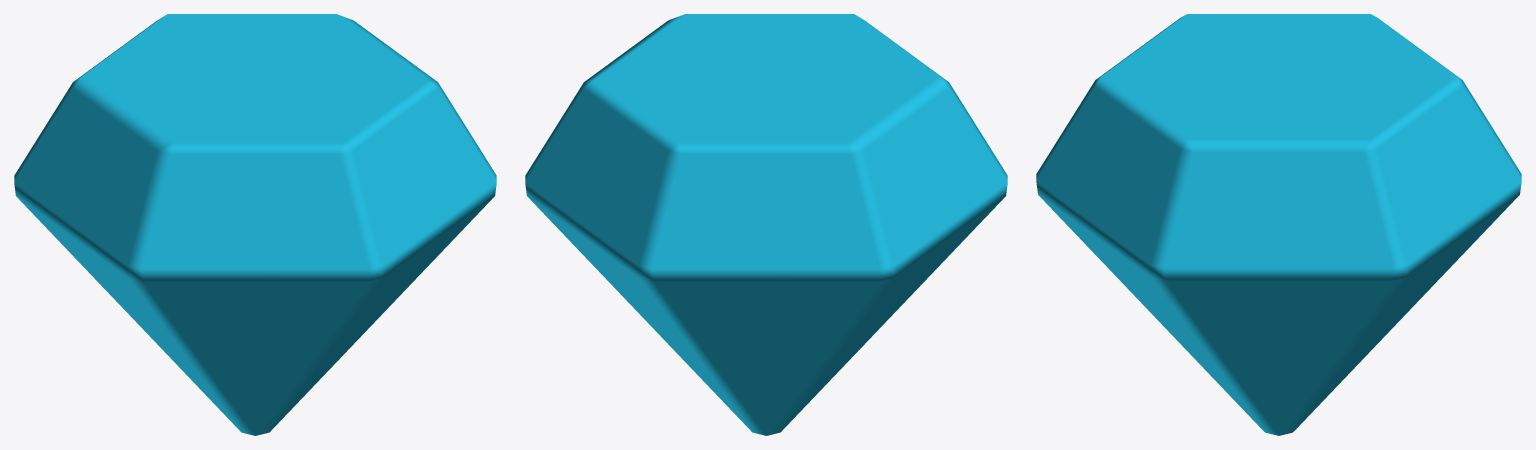
The model's file is crystal1-1notex.fbx.
3 views of the same model, side by side, from view 1: azimuth 30°, elevation 25°; view 2: azimuth 150°, elevation 25°; view 3: azimuth 270°, elevation 25° (orthographic).
Parts seen in each view (by area): view 1: crystal1-1notex; view 2: crystal1-1notex; view 3: crystal1-1notex.
Part boxes in pixels (box(x1,y1,x2,y2)): crystal1-1notex: box(14, 14, 496, 435); crystal1-1notex: box(525, 14, 1007, 435); crystal1-1notex: box(1036, 14, 1521, 435).
Size of the model in its own units: 0.3862 by 0.351 by 0.4376.
